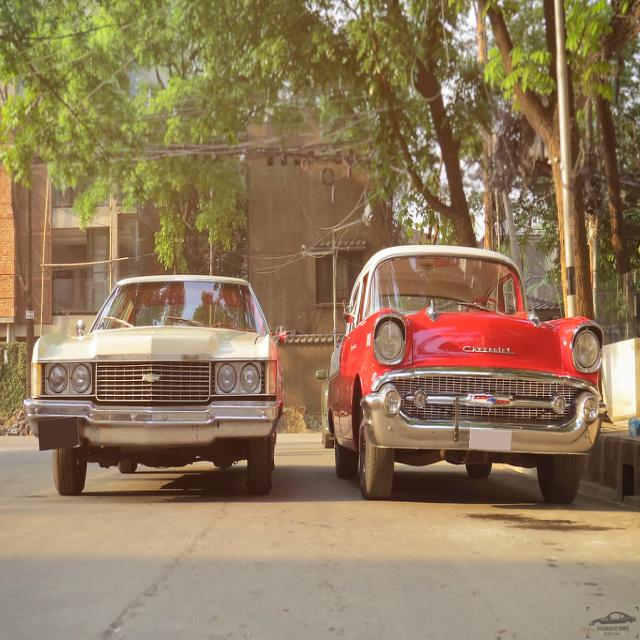red: (346, 245, 604, 489)
white: (29, 268, 284, 503)
